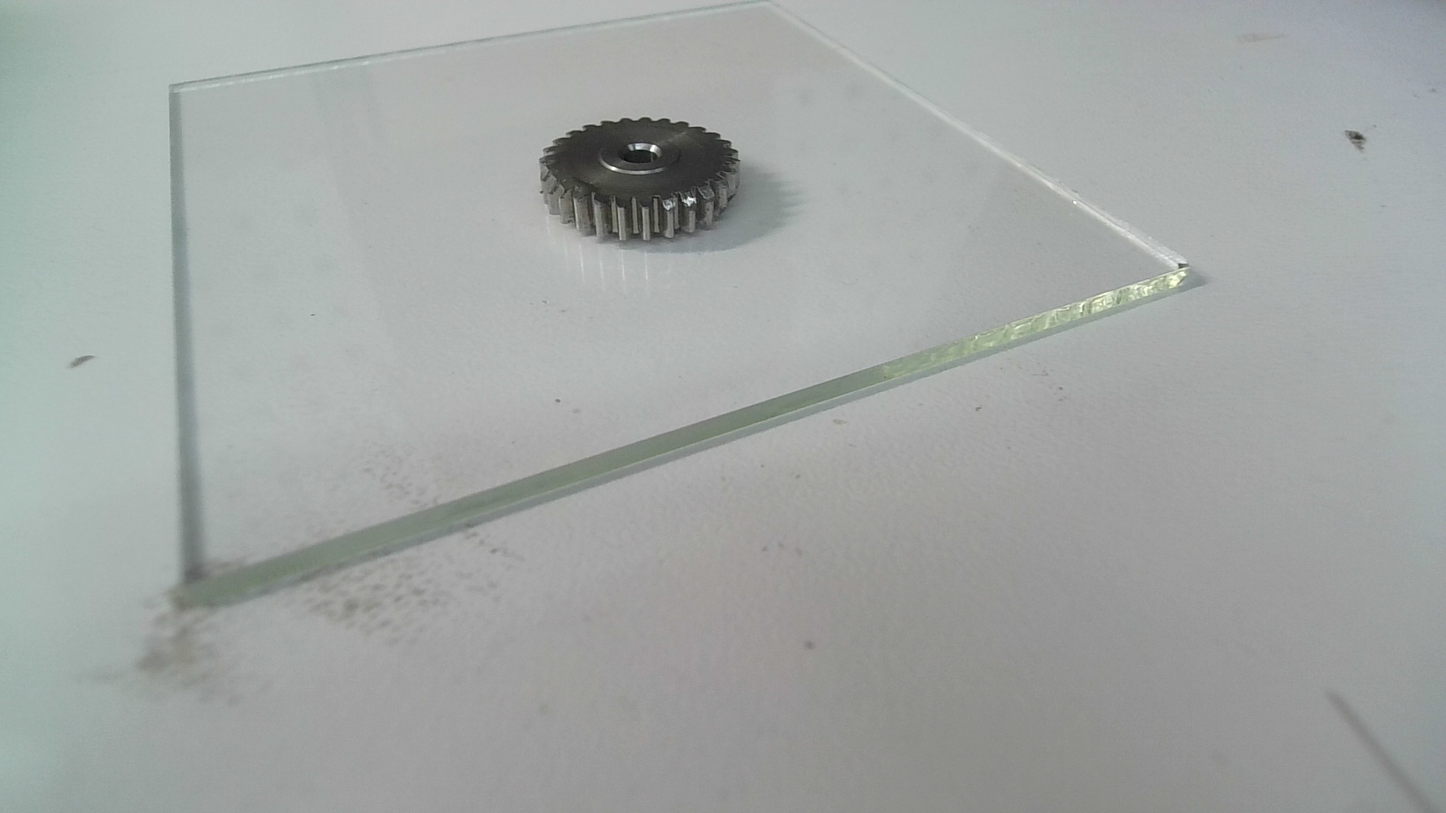gear: (536, 115, 745, 245)
